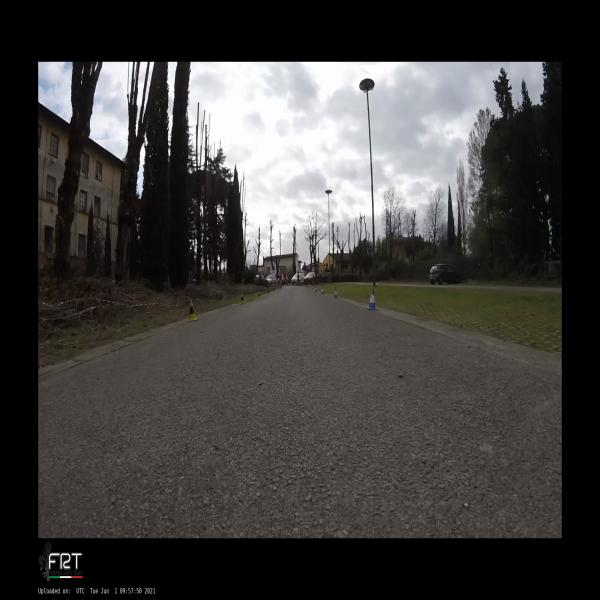blue_cone: (366, 289, 378, 310), (334, 287, 338, 298), (321, 287, 323, 294), (315, 286, 317, 292)
yellow_cone: (187, 300, 199, 321), (240, 294, 244, 304), (258, 292, 260, 298)
